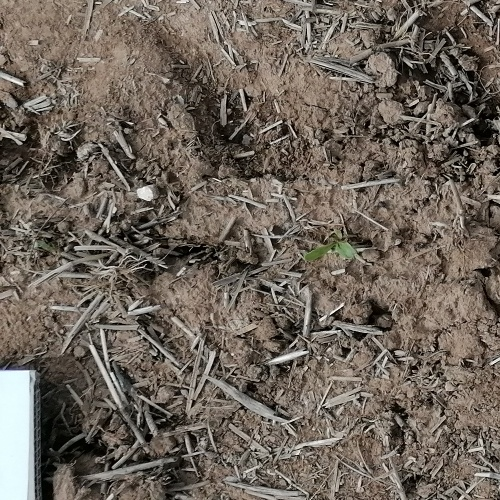beet: (300, 235, 357, 265)
